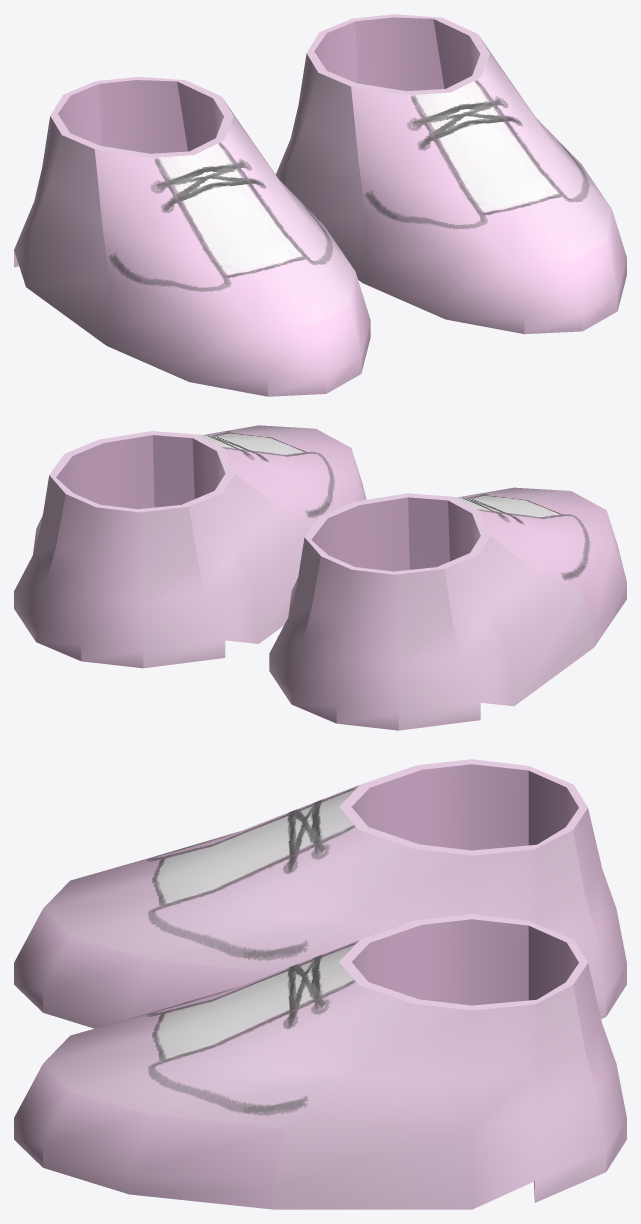
File: Shoes_Entry_01.fbx
The picture shows the model from 3 angles, top to bottom: view 1: azimuth 30°, elevation 25°; view 2: azimuth 150°, elevation 25°; view 3: azimuth 270°, elevation 25°; orthographic projection. The views are drawn at different scales.
Parts seen in each view (by area): view 1: Shoe_02, Shoe_01; view 2: Shoe_02, Shoe_01; view 3: Shoe_01, Shoe_02.
Part boxes in pixels (bbox=[...]): Shoe_02: bbox=[14, 76, 370, 396]; Shoe_01: bbox=[276, 14, 626, 334]; Shoe_02: bbox=[269, 487, 626, 730]; Shoe_01: bbox=[14, 425, 366, 668]; Shoe_01: bbox=[14, 914, 626, 1209]; Shoe_02: bbox=[14, 759, 626, 1028].
Bounding box in the file's own units: 0.9554 × 0.2681 × 0.8392.
